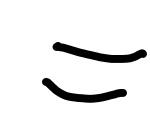eqv: (40, 41, 146, 102)
